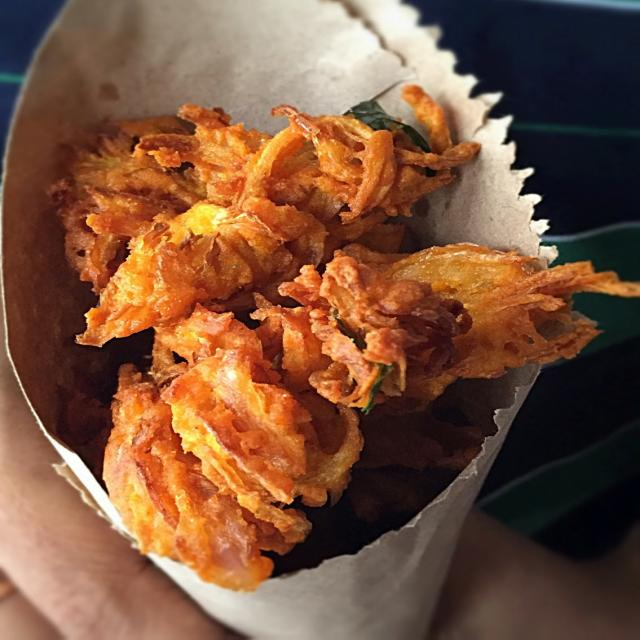Onion Pakora: (9, 84, 640, 594)
